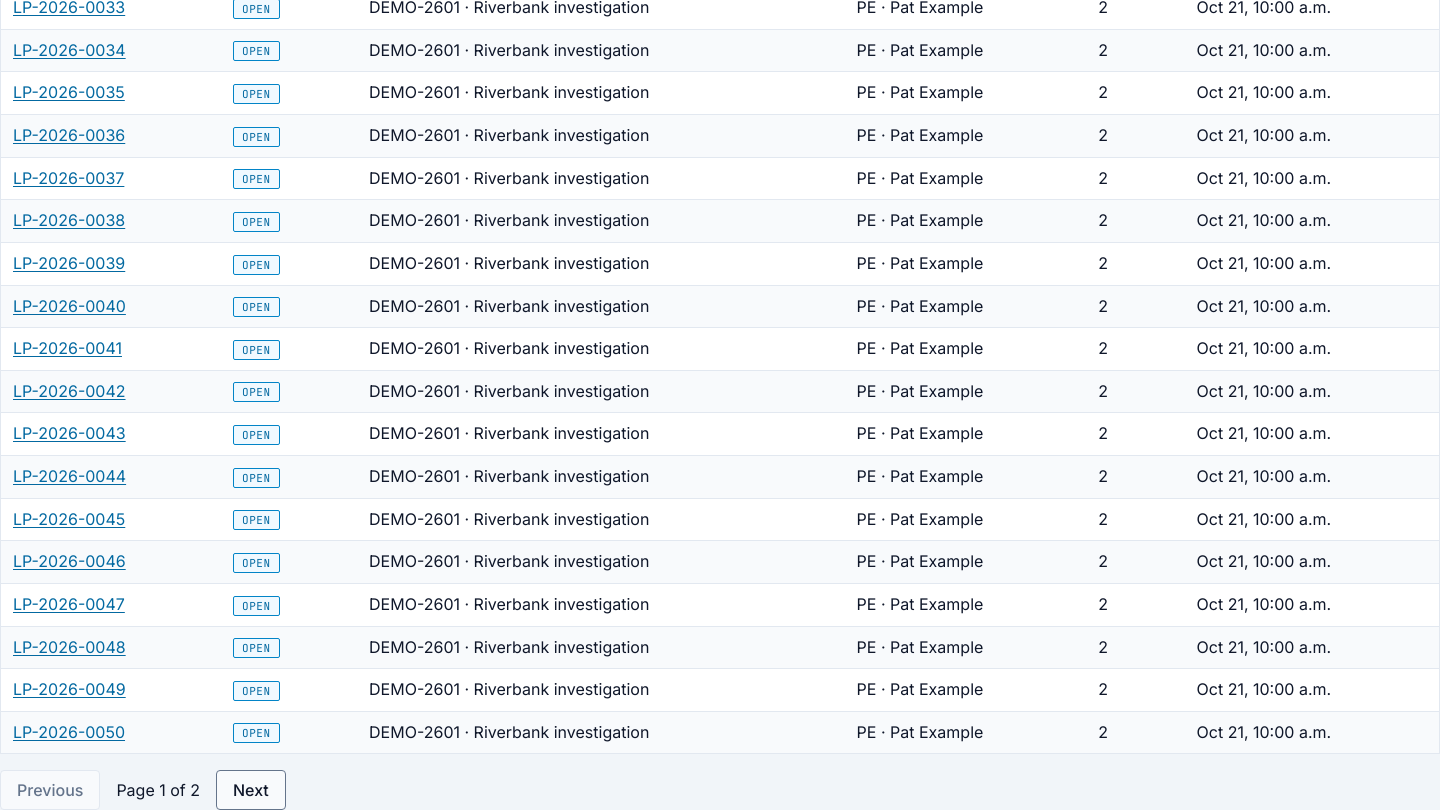
Test case: Lab Testing → Programs list › BUG-003: a closed program reads Closed, and the Closed filter starts again at page 1
(page scrolled)
Click the button "Next" at (251, 790), box [216,770,286,809]
(page scrolled)
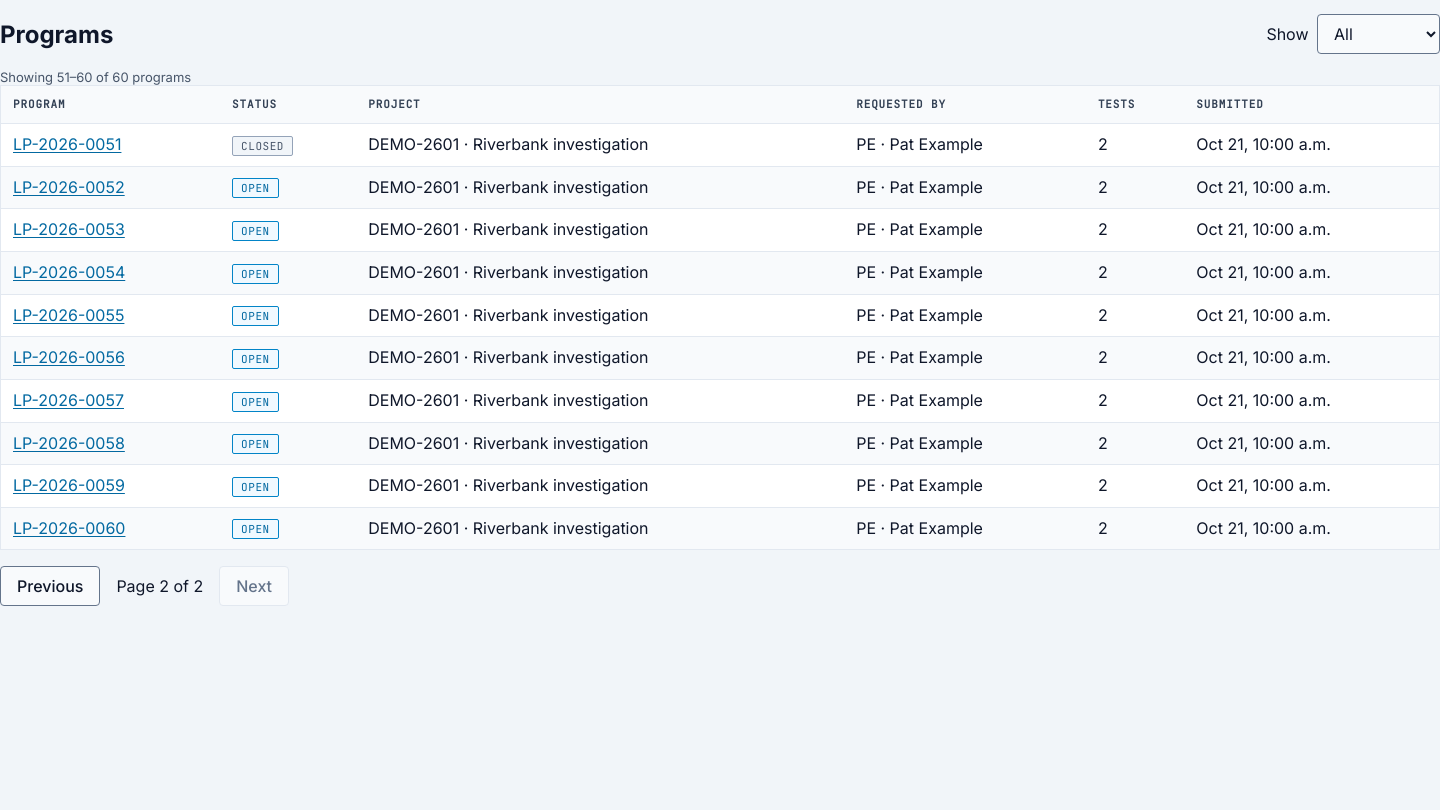
Expected: the text "Page 2 of 2" is shown, [116,576,203,596]
Select "Closed" in the dropdown labelled "Show" at (1378, 34), box [1317,14,1439,54]
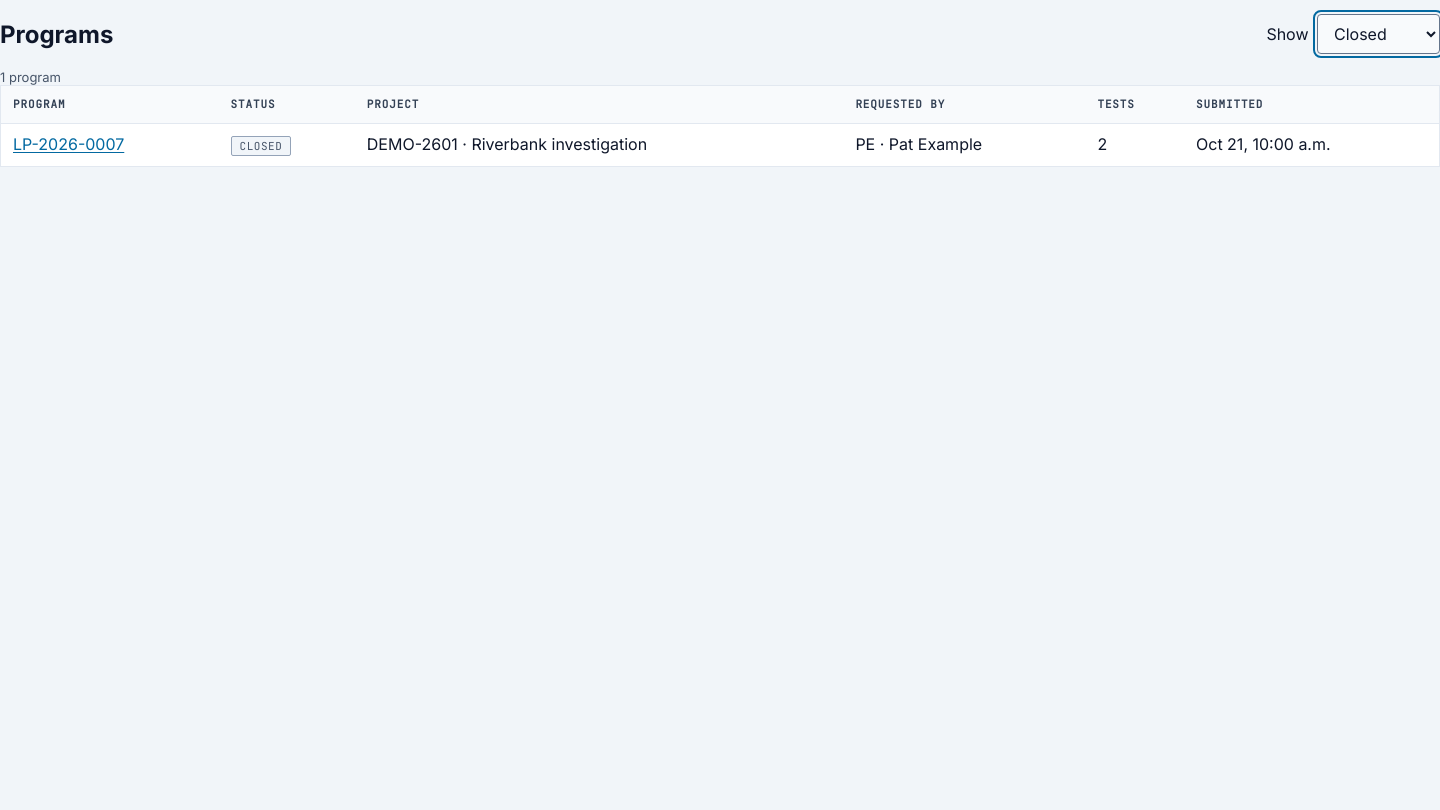
Expected: the text "1 program" is shown, [0,69,61,85]
